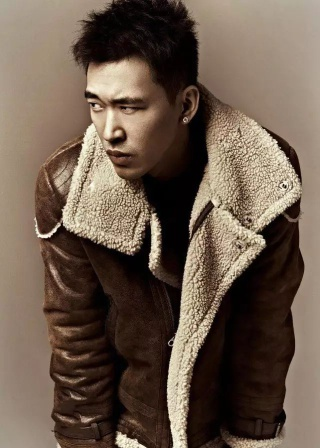male: (57, 1, 228, 194)
